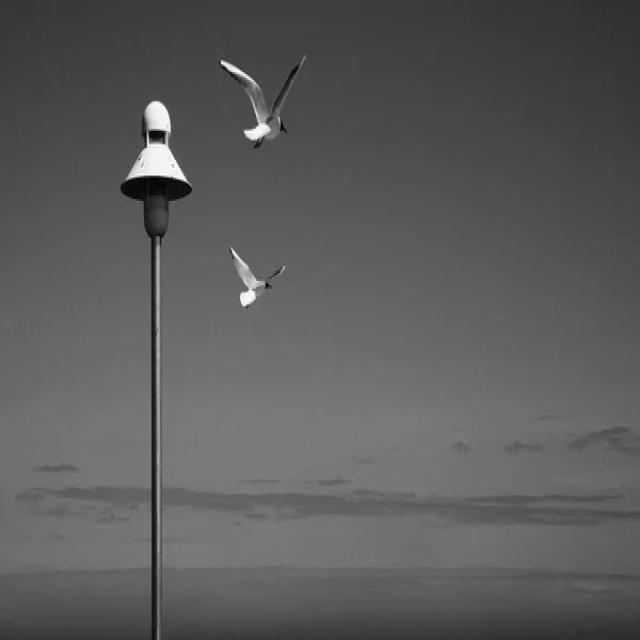Pole: (120, 99, 192, 640)
